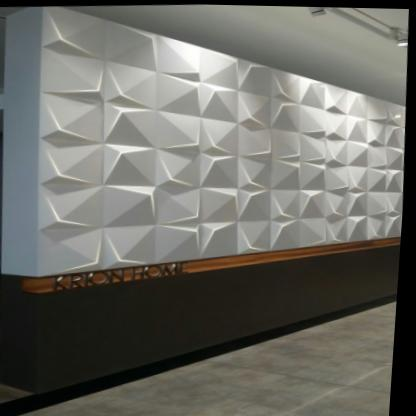Futech tiles: (65, 84, 353, 232)
